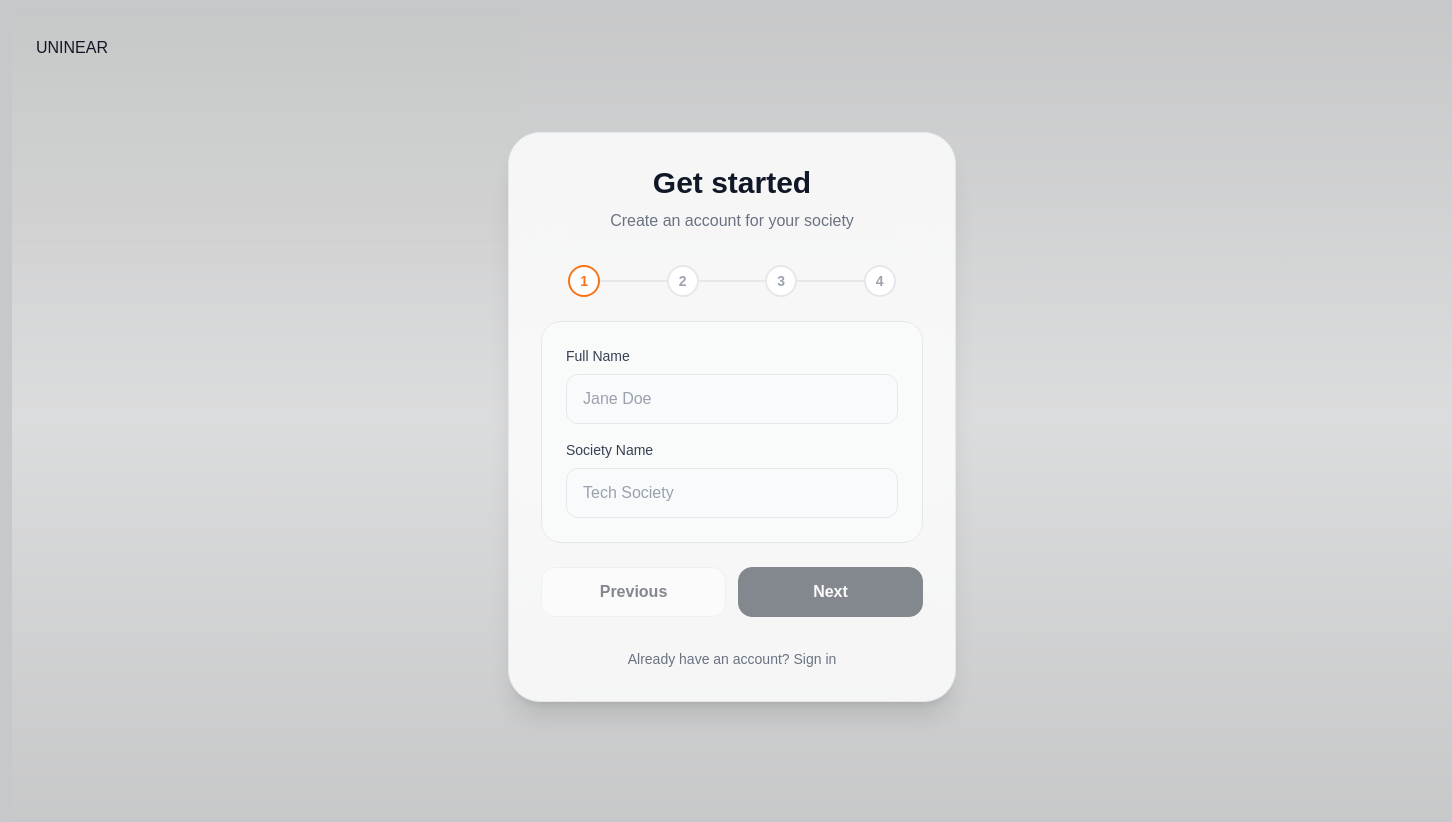
Test case: test_NFR08_user_registration - Signup Page › password step: shows error and disables Next for short password
// Navigate to step 3 (password)
Type "Test" into the field labelled "Full Name" at (732, 399), box [566, 374, 898, 424]
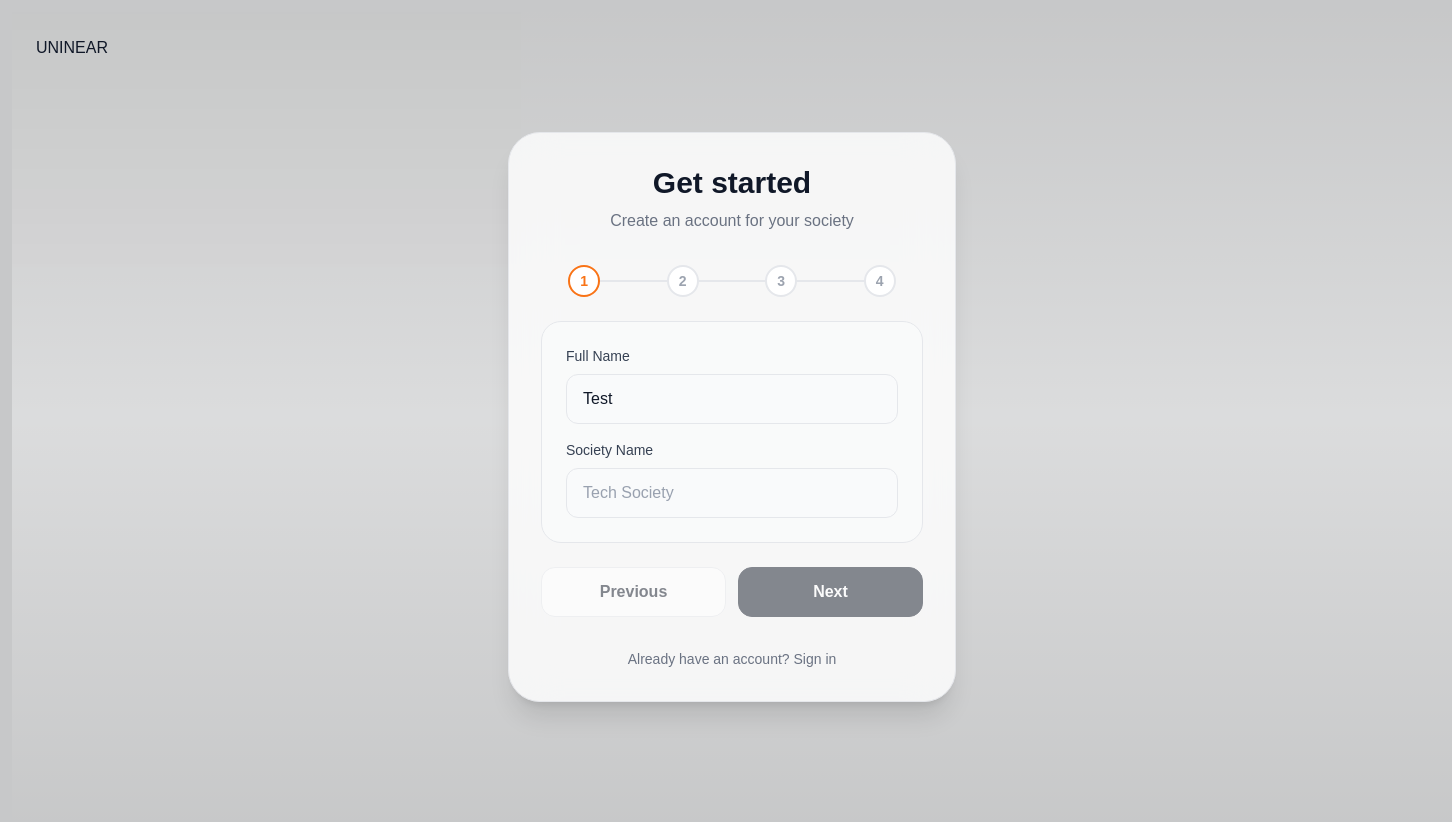
Type "Soc" into the field labelled "Society Name" at (732, 493), box [566, 468, 898, 518]
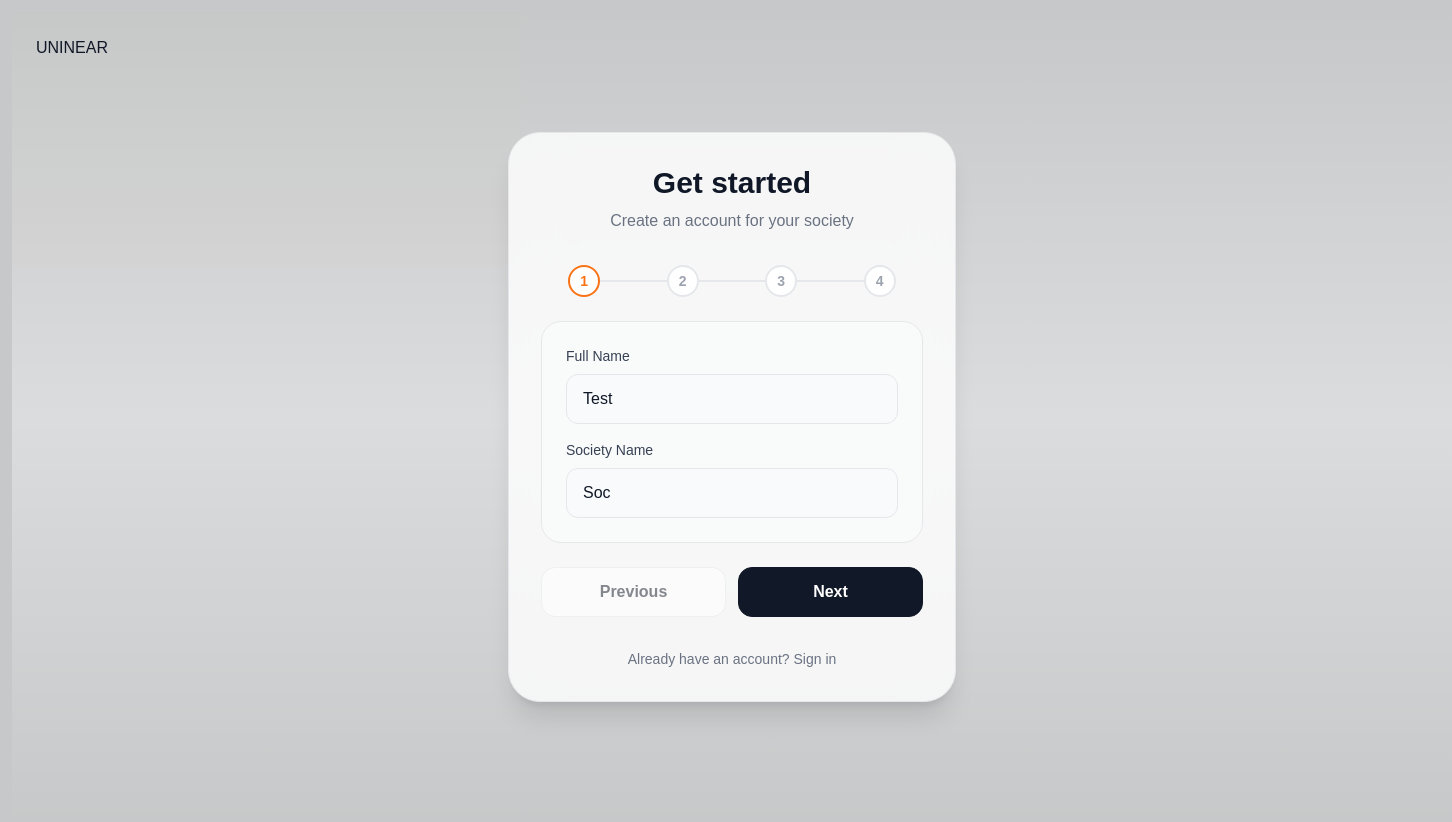
Click the button "Next" at (830, 592), box [738, 567, 923, 617]
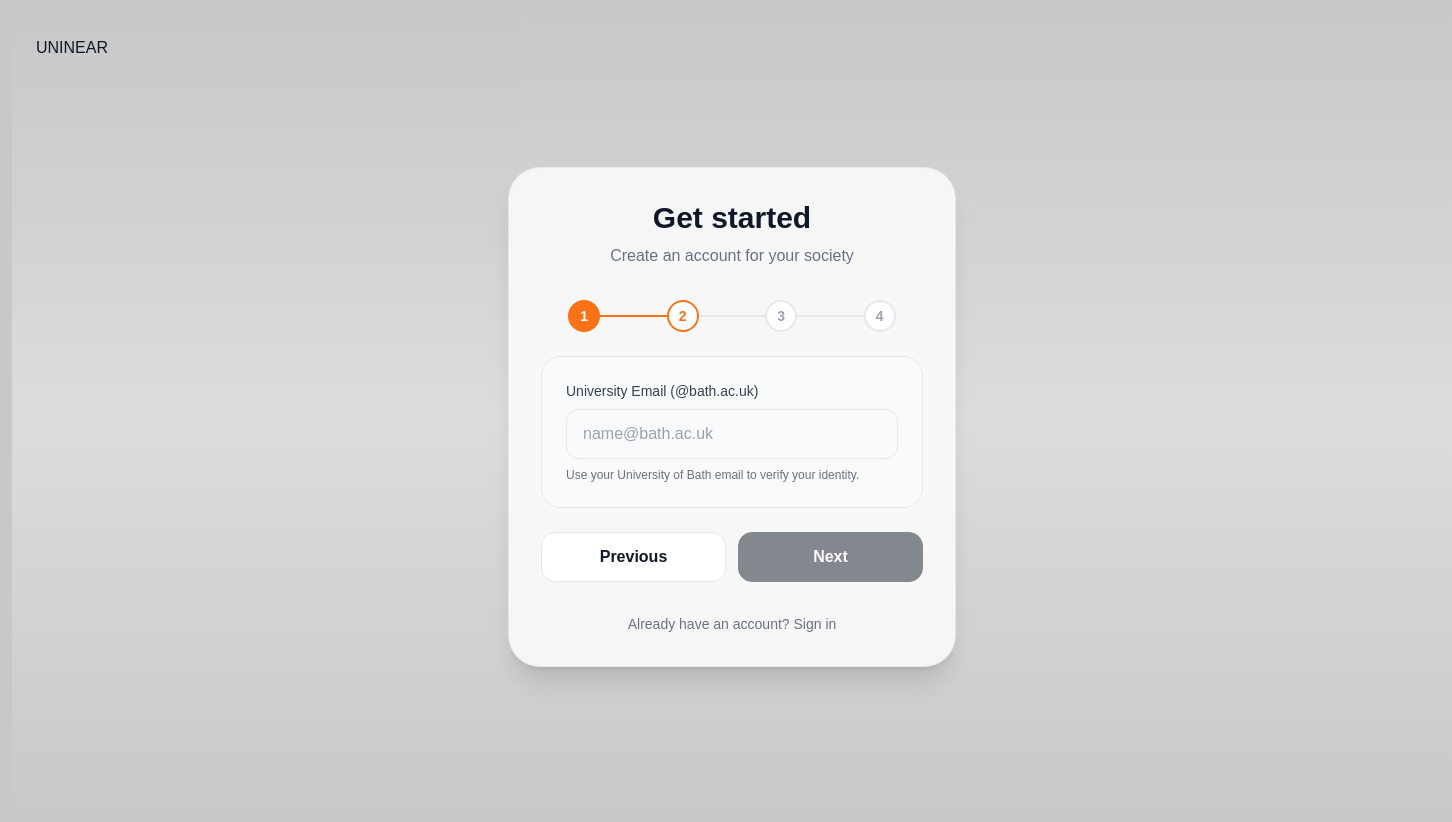
Type "x@bath.ac.uk" into the field labelled "University Email (@bath.ac.uk)" at (732, 434), box [566, 409, 898, 459]
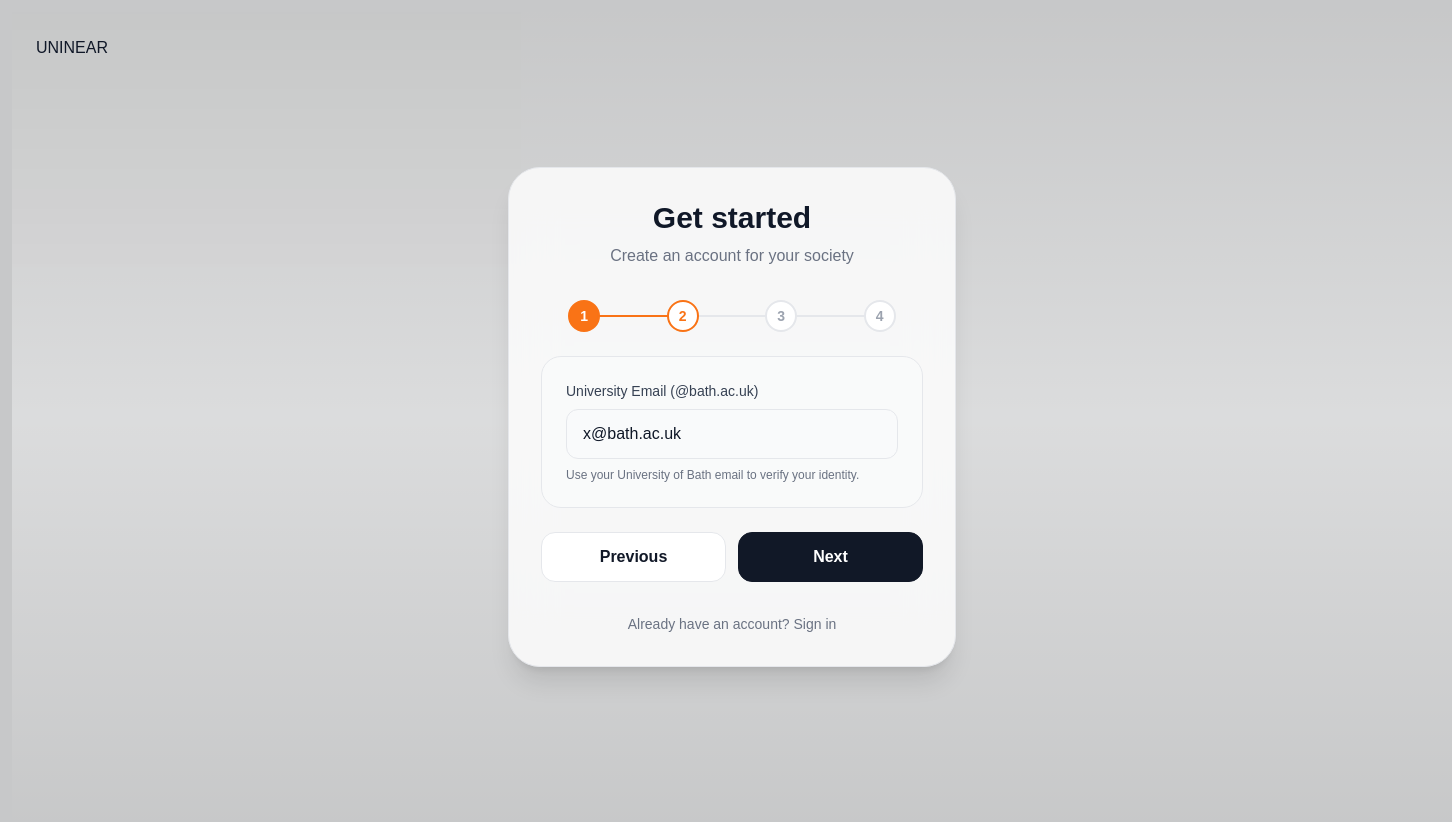
Click the button "Next" at (830, 557), box [738, 532, 923, 582]
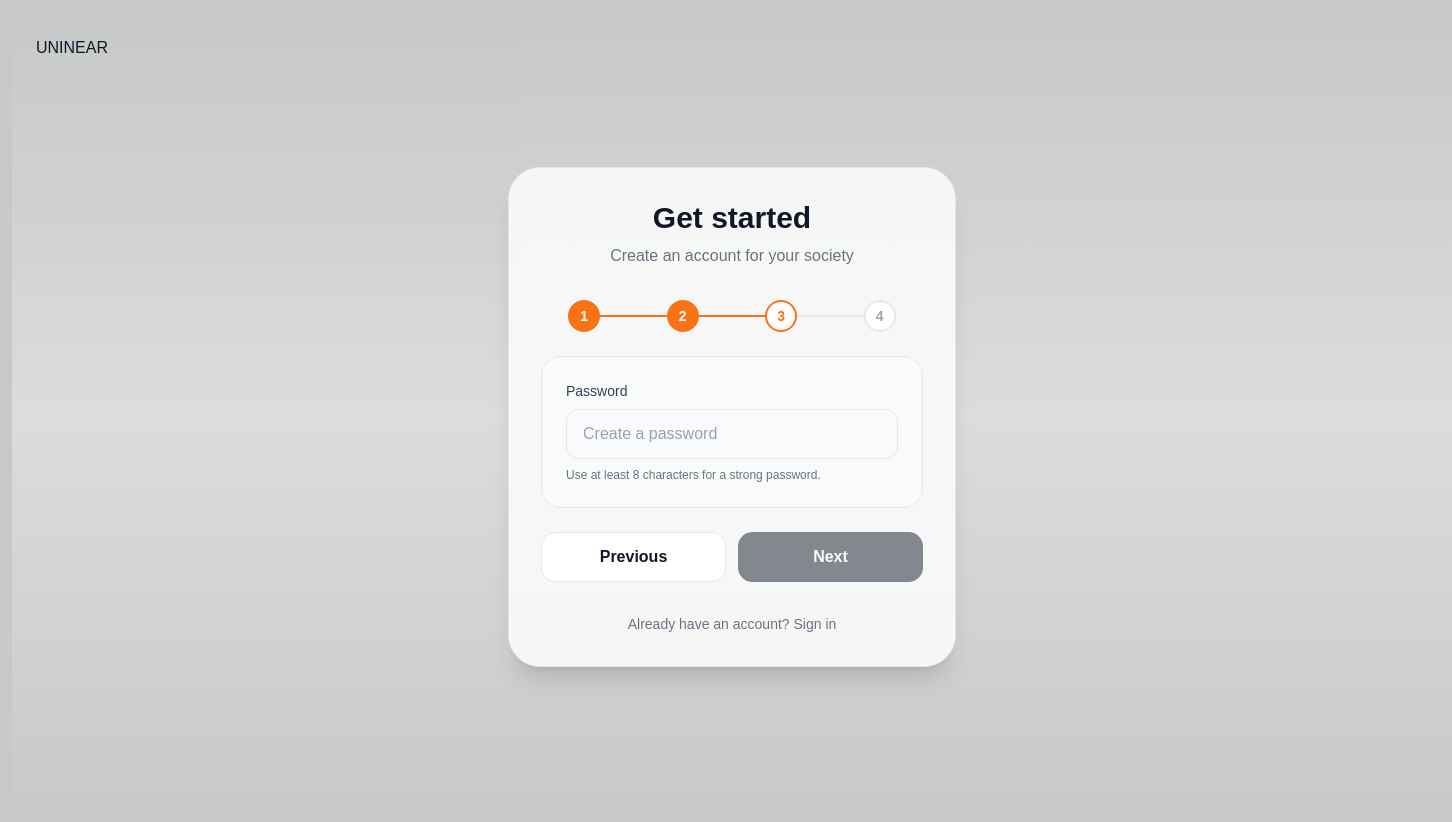
// Enter short password
Type "short" into the password field labelled "Password" at (732, 434), box [566, 409, 898, 459]
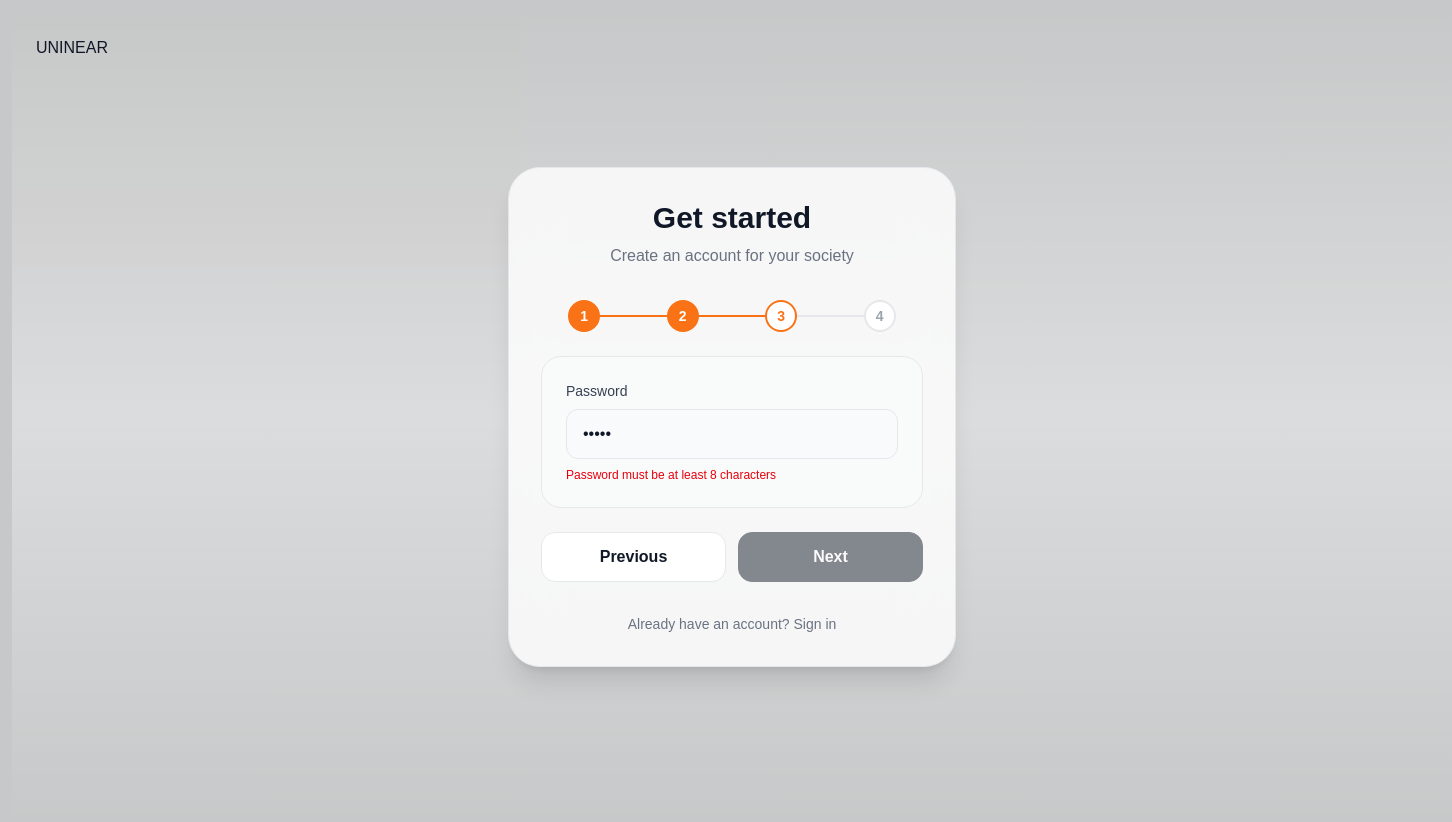
Expected: the button "Next" is disabled, [738, 532, 923, 582]
Expected: the text "Password must be at least 8 characters" is shown, [566, 468, 776, 482]
